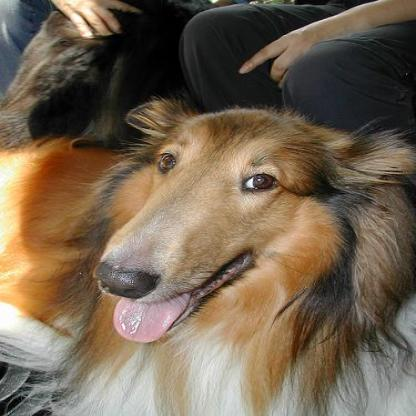collie: (0, 92, 412, 414)
